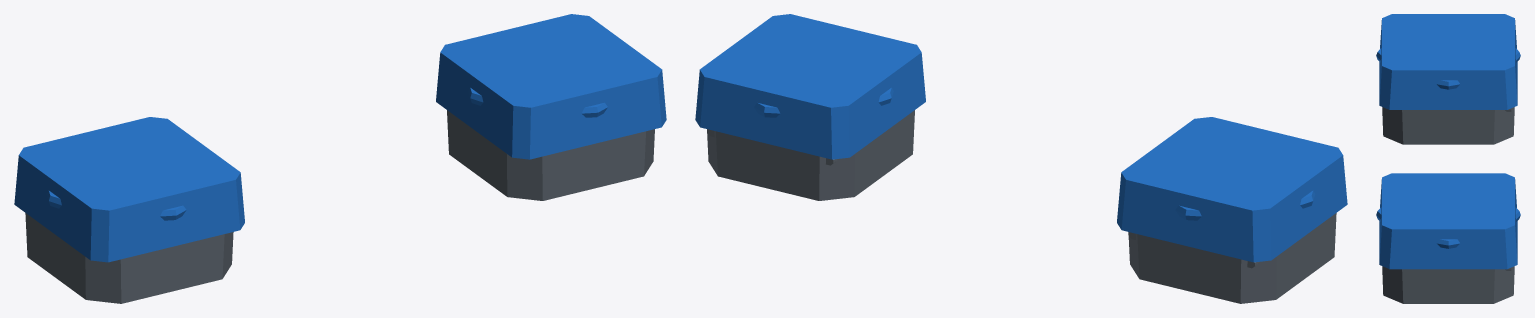
Rendered from gloves_greatsword_s2.fbx.
3 views of the same model, side by side, from view 1: azimuth 30°, elevation 25°; view 2: azimuth 150°, elevation 25°; view 3: azimuth 270°, elevation 25° (orthographic). The views are drawn at different scales.
Parts seen in each view (by area): view 1: Bracer_R_Band, Bracer_L_Band, Glove_L_Inner, Glove_R_Inner; view 2: Bracer_R_Band, Bracer_L_Band, Glove_L_Inner, Glove_R_Inner; view 3: Bracer_R_Band, Bracer_L_Band, Glove_R_Inner, Glove_L_Inner.
Boxes of the visible parts, box(x1,y1,x2,y2) form: Bracer_R_Band: box(436, 14, 666, 159); Bracer_L_Band: box(14, 117, 244, 262); Glove_L_Inner: box(25, 213, 233, 303); Glove_R_Inner: box(447, 110, 654, 200); Bracer_R_Band: box(695, 14, 925, 159); Bracer_L_Band: box(1117, 117, 1347, 262); Glove_L_Inner: box(1128, 213, 1336, 303); Glove_R_Inner: box(707, 110, 914, 200); Bracer_R_Band: box(1376, 173, 1520, 269); Bracer_L_Band: box(1376, 14, 1520, 109); Glove_R_Inner: box(1382, 266, 1514, 303); Glove_L_Inner: box(1382, 107, 1514, 144).
Size of the model in its own units: 415 by 66 by 115.
